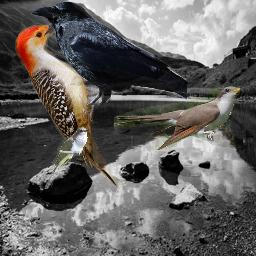Crow: (29, 1, 187, 105)
Cuckoo: (114, 86, 240, 150), (44, 127, 89, 189)
Woodpecker: (15, 16, 120, 191)
